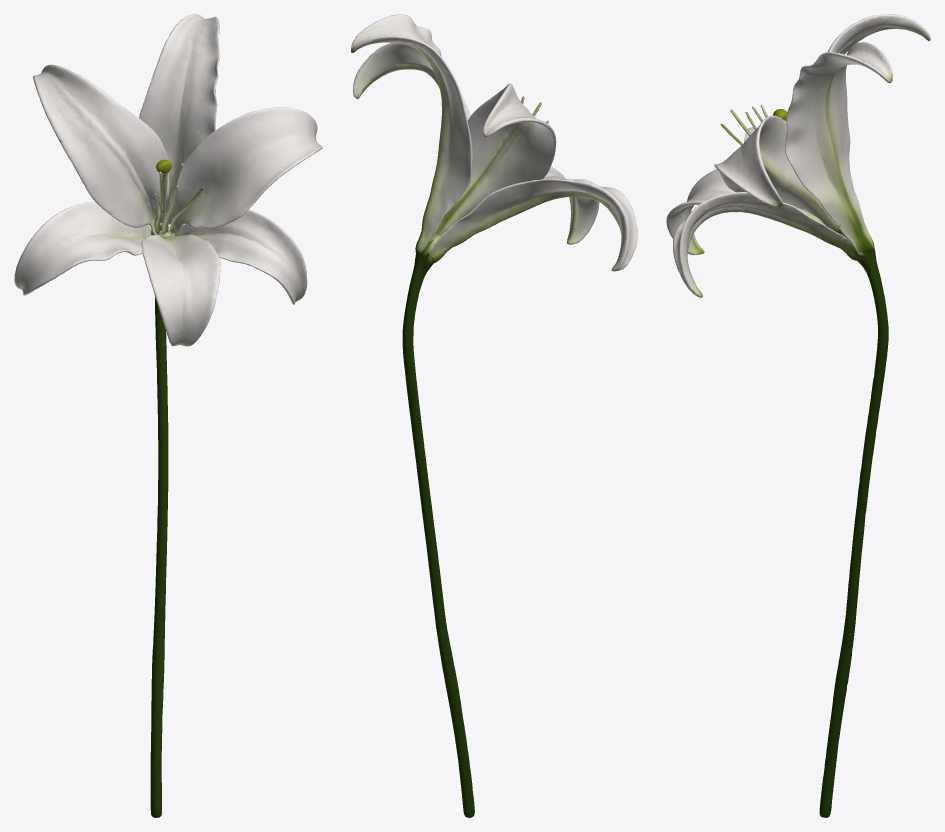
File: white.glb
3 views of the same model, side by side, from view 1: azimuth 30°, elevation 25°; view 2: azimuth 150°, elevation 25°; view 3: azimuth 270°, elevation 25° (orthographic). The views are drawn at different scales.
Bounding box in the file's own units: 0.7334 × 1.9 × 0.5706.
1 material, 1 textured.
